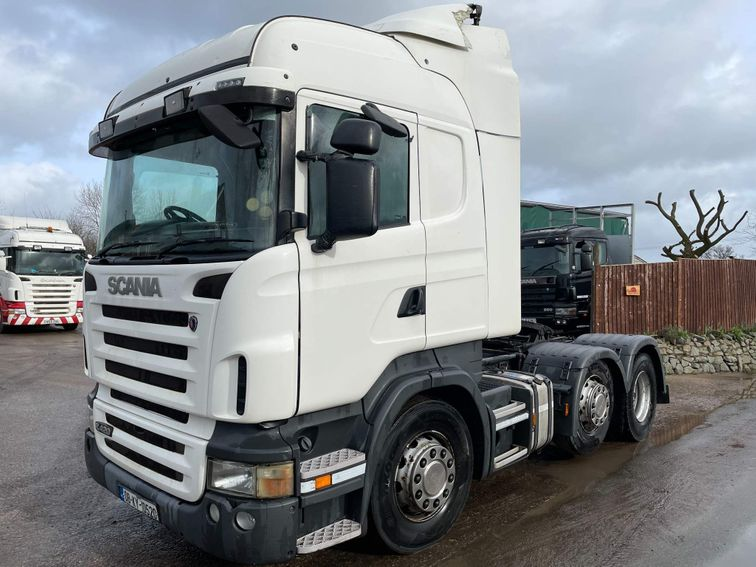Semi: (81, 2, 669, 566), (0, 214, 88, 332)
